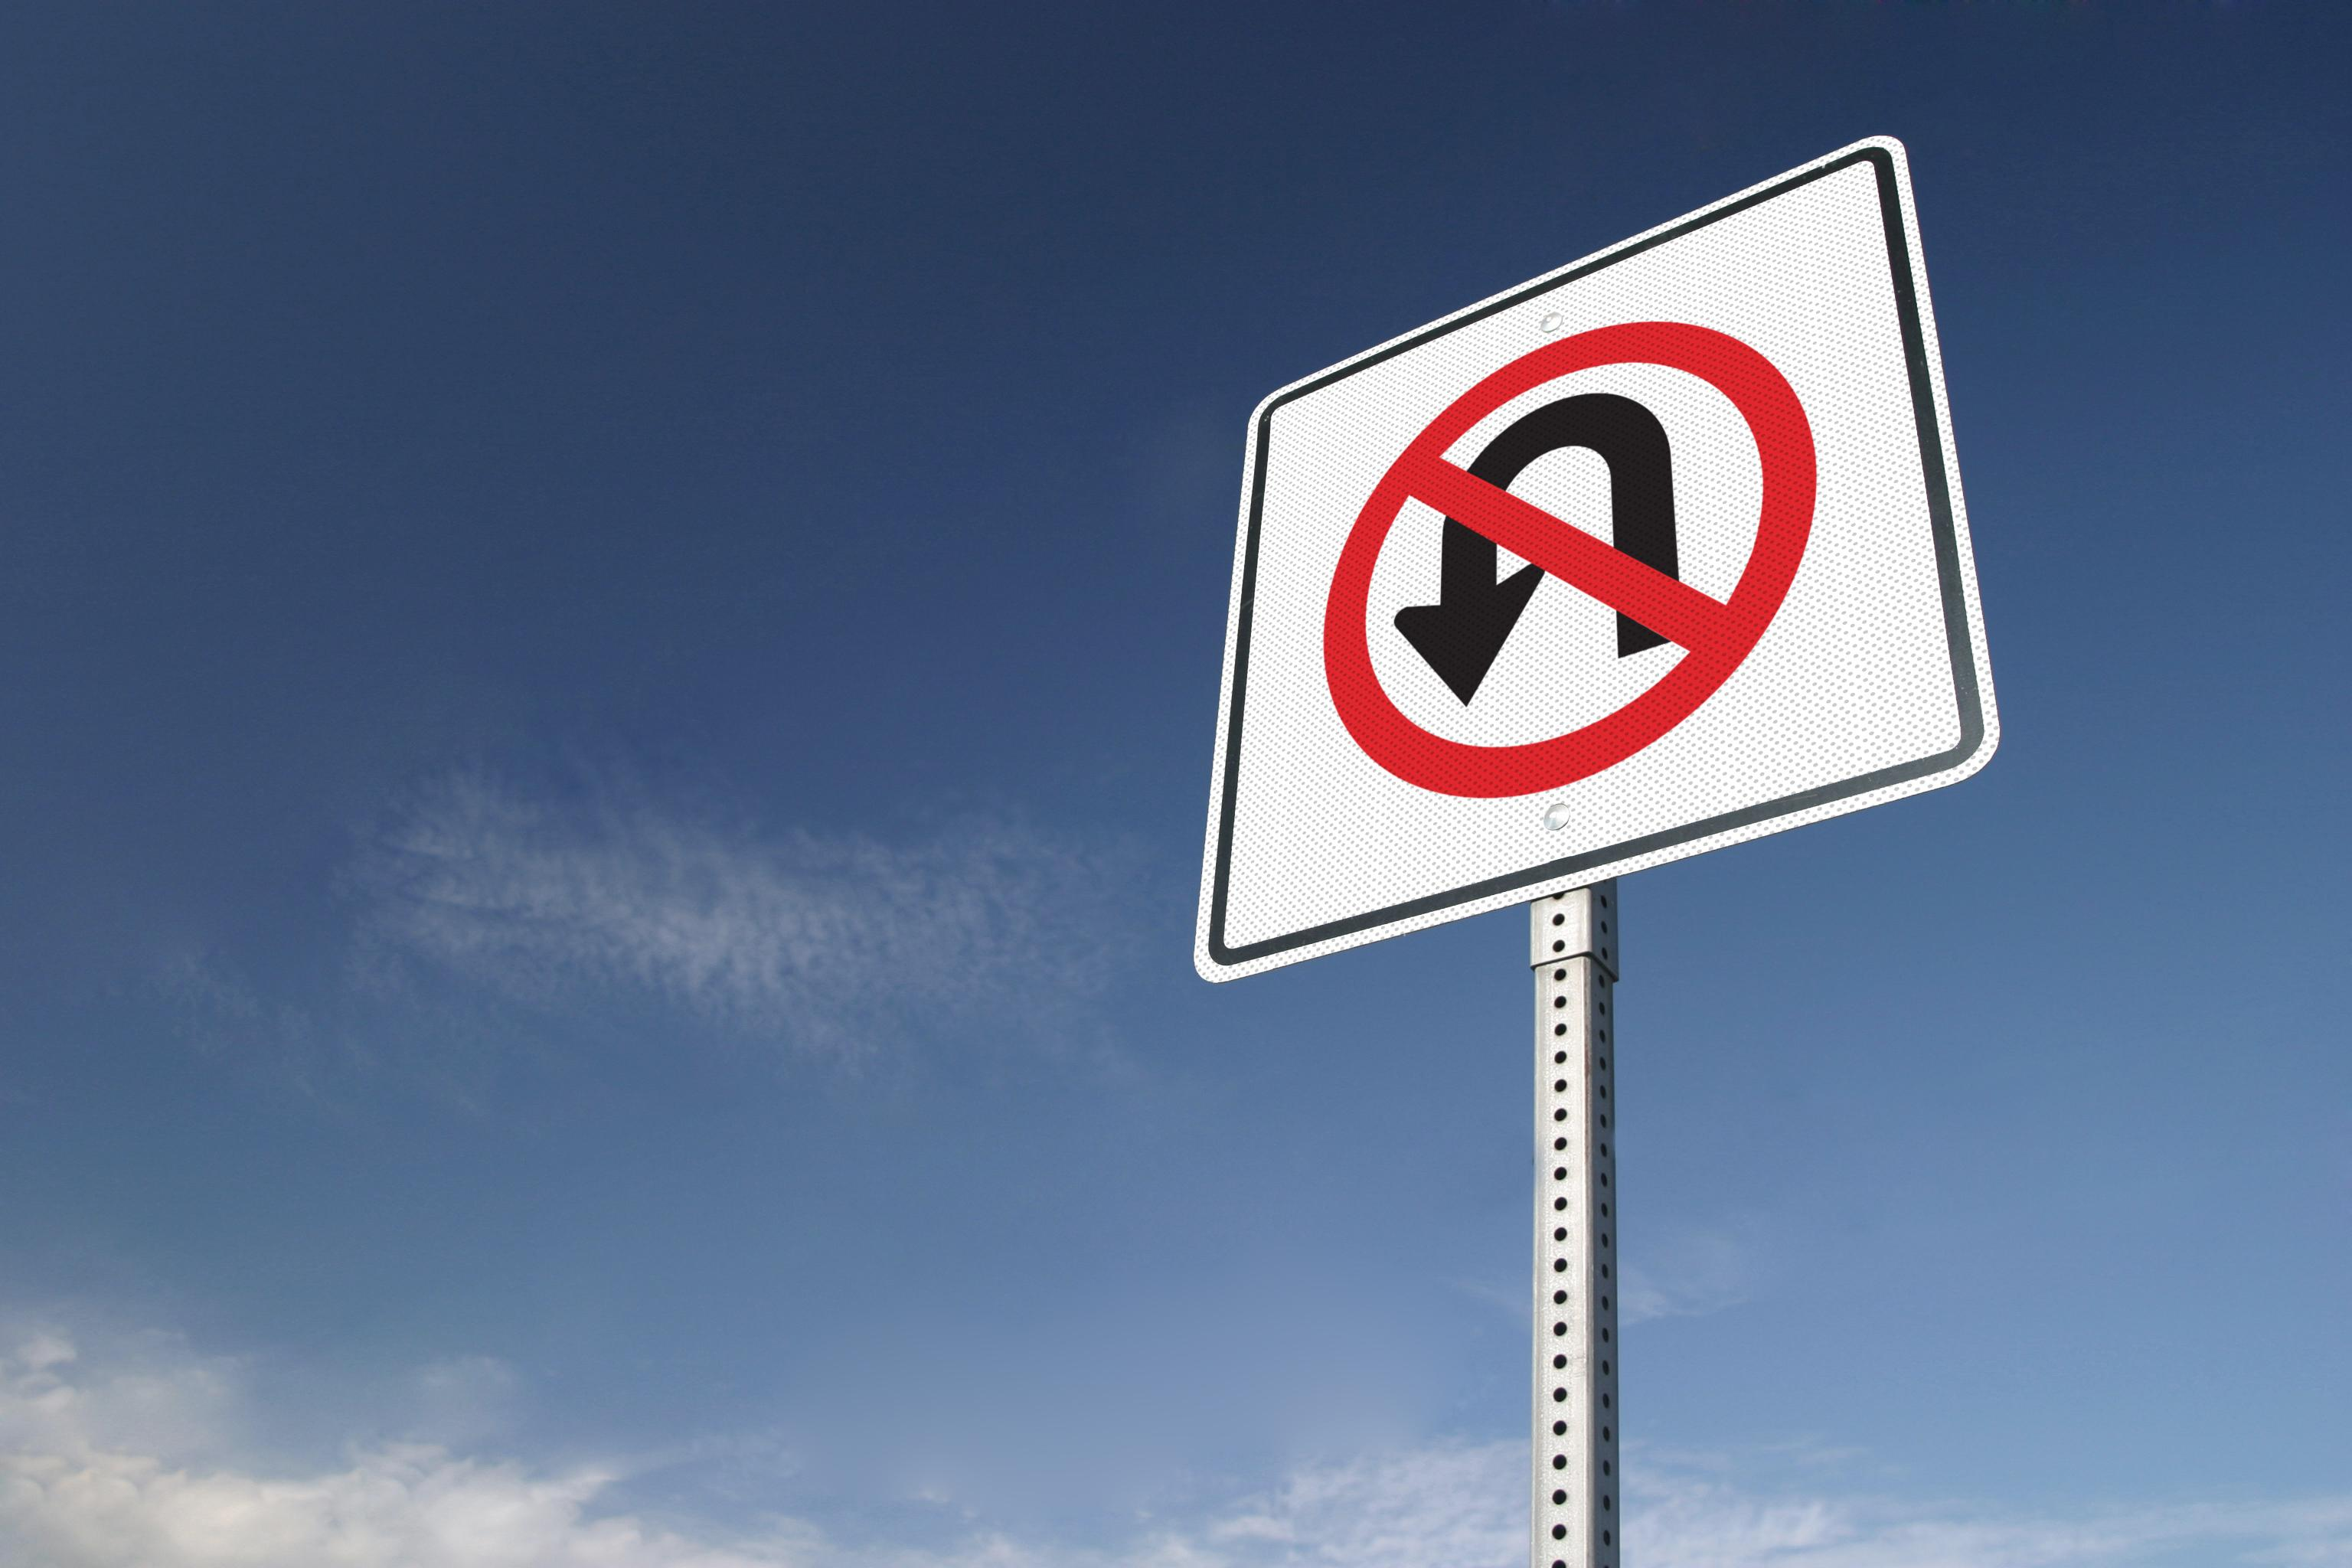no_u_turn: (1314, 310, 1813, 796)
